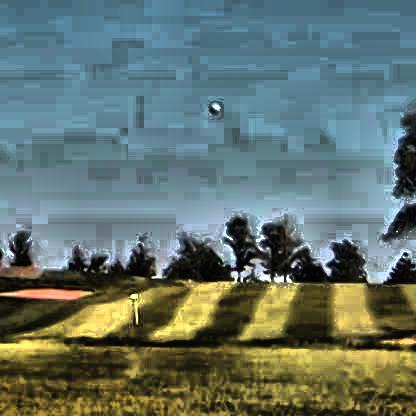golfball: (207, 99, 218, 111)
